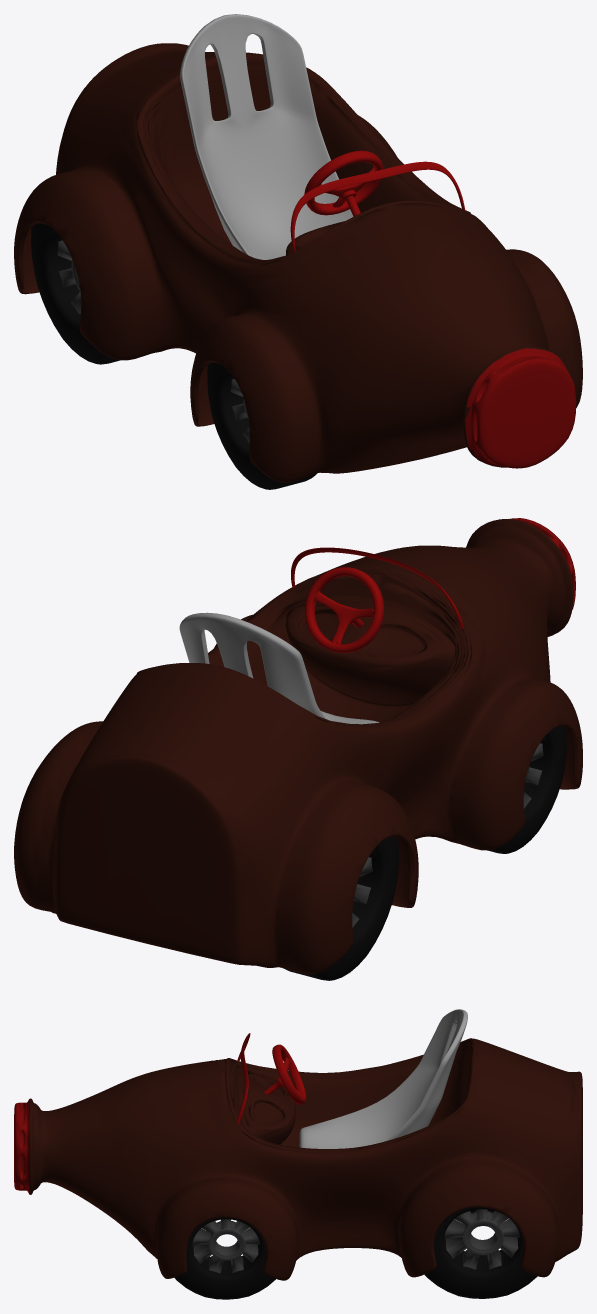
The model's file is Bottle Car.FBX.
3 renders of one model, top to bottom at view 1: azimuth 30°, elevation 25°; view 2: azimuth 150°, elevation 25°; view 3: azimuth 270°, elevation 25°, orthographic. The views are drawn at different scales.
Visible parts, largest first — view 1: Group19929, Line001, Object005, Object007, Cylinder001, Group2990; view 2: Group19929, Line001, Object005, Object007, Cylinder001, Group2990; view 3: Group19929, Line001, Object003, Object006, Cylinder001, Group2990.
Boxes of the visible parts, bbox=[...] form: Group19929: bbox=[14, 43, 582, 482]; Line001: bbox=[180, 14, 353, 259]; Object005: bbox=[31, 223, 119, 364]; Object007: bbox=[207, 362, 316, 489]; Cylinder001: bbox=[304, 150, 383, 215]; Group2990: bbox=[290, 161, 465, 251]; Group19929: bbox=[14, 518, 582, 974]; Line001: bbox=[179, 612, 379, 724]; Object005: bbox=[283, 837, 398, 980]; Object007: bbox=[488, 726, 567, 853]; Cylinder001: bbox=[305, 567, 384, 652]; Group2990: bbox=[291, 547, 463, 629]; Group19929: bbox=[14, 1038, 582, 1280]; Line001: bbox=[299, 1009, 467, 1148]; Object003: bbox=[424, 1207, 537, 1298]; Object006: bbox=[174, 1217, 275, 1299]; Cylinder001: bbox=[272, 1044, 306, 1104]; Group2990: bbox=[236, 1033, 250, 1123].
Bounding box in the file's own units: 122 × 111 × 242.
